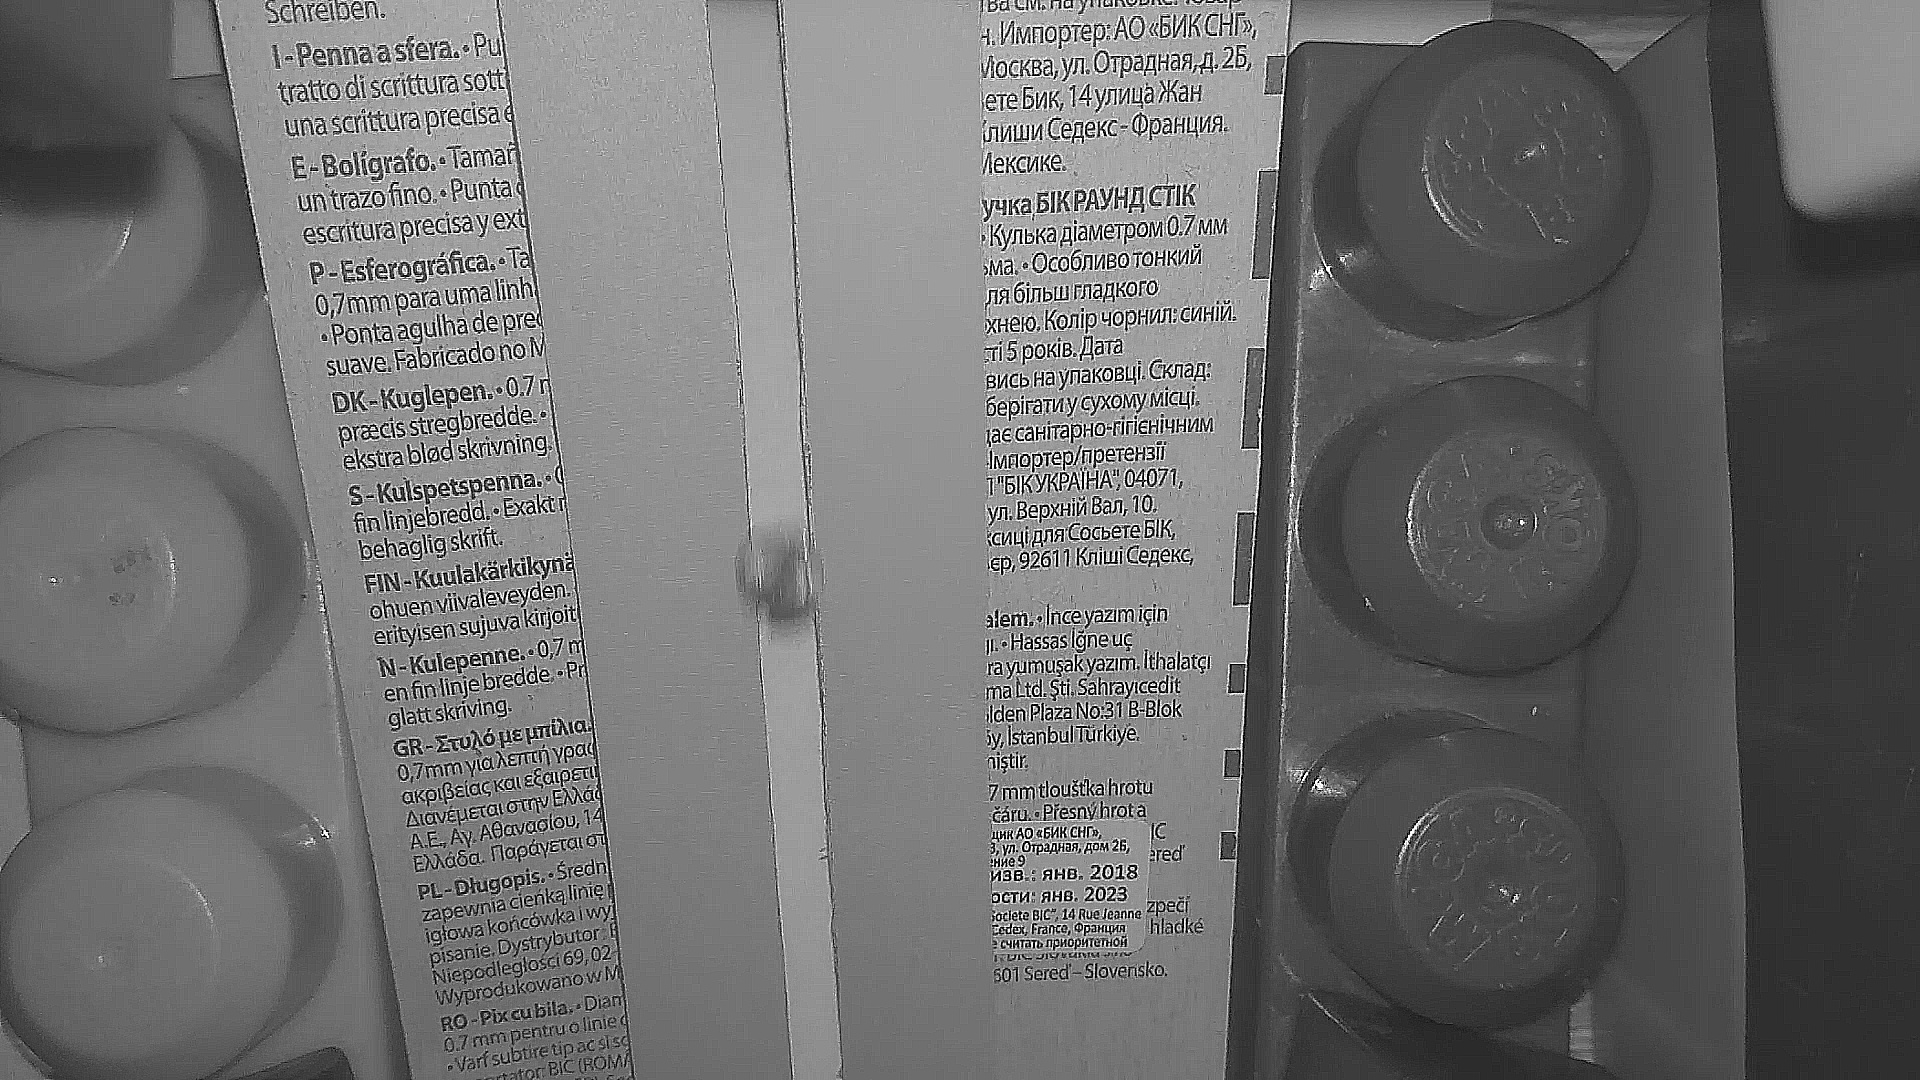i: (741, 533, 822, 615)
